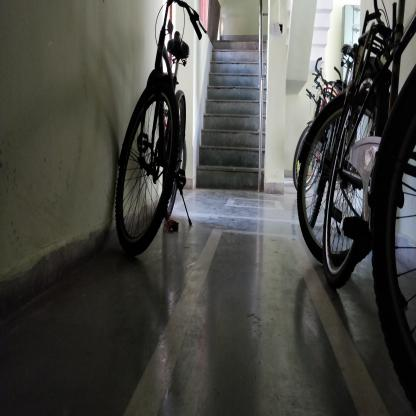stairs: (213, 40, 258, 196)
